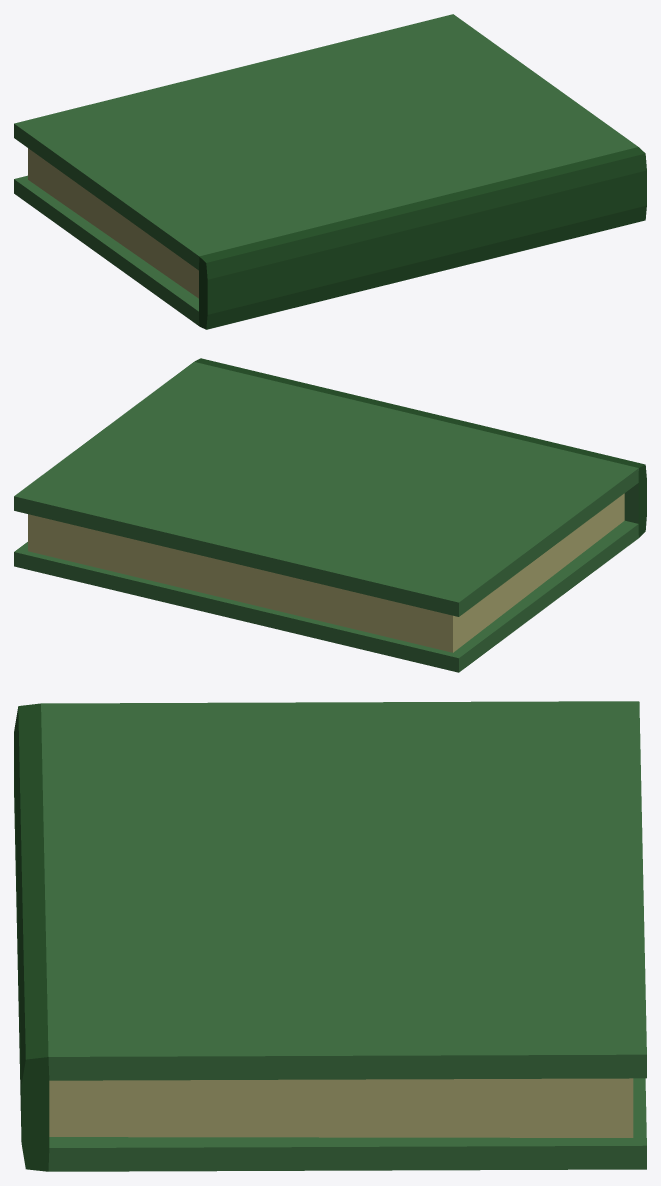
3 renders of one model, top to bottom at view 1: azimuth 30°, elevation 25°; view 2: azimuth 150°, elevation 25°; view 3: azimuth 270°, elevation 25°, orthographic. The views are drawn at different scales.
Visible parts, largest first — view 1: bp3; view 2: bp3; view 3: bp3.
Part boxes in pixels (left/top/right/bottom): bp3: left=14, top=14, right=646, bottom=329; bp3: left=14, top=358, right=646, bottom=672; bp3: left=14, top=701, right=646, bottom=1171.
Size of the model in its own units: 91.37 by 13.74 by 68.68.
